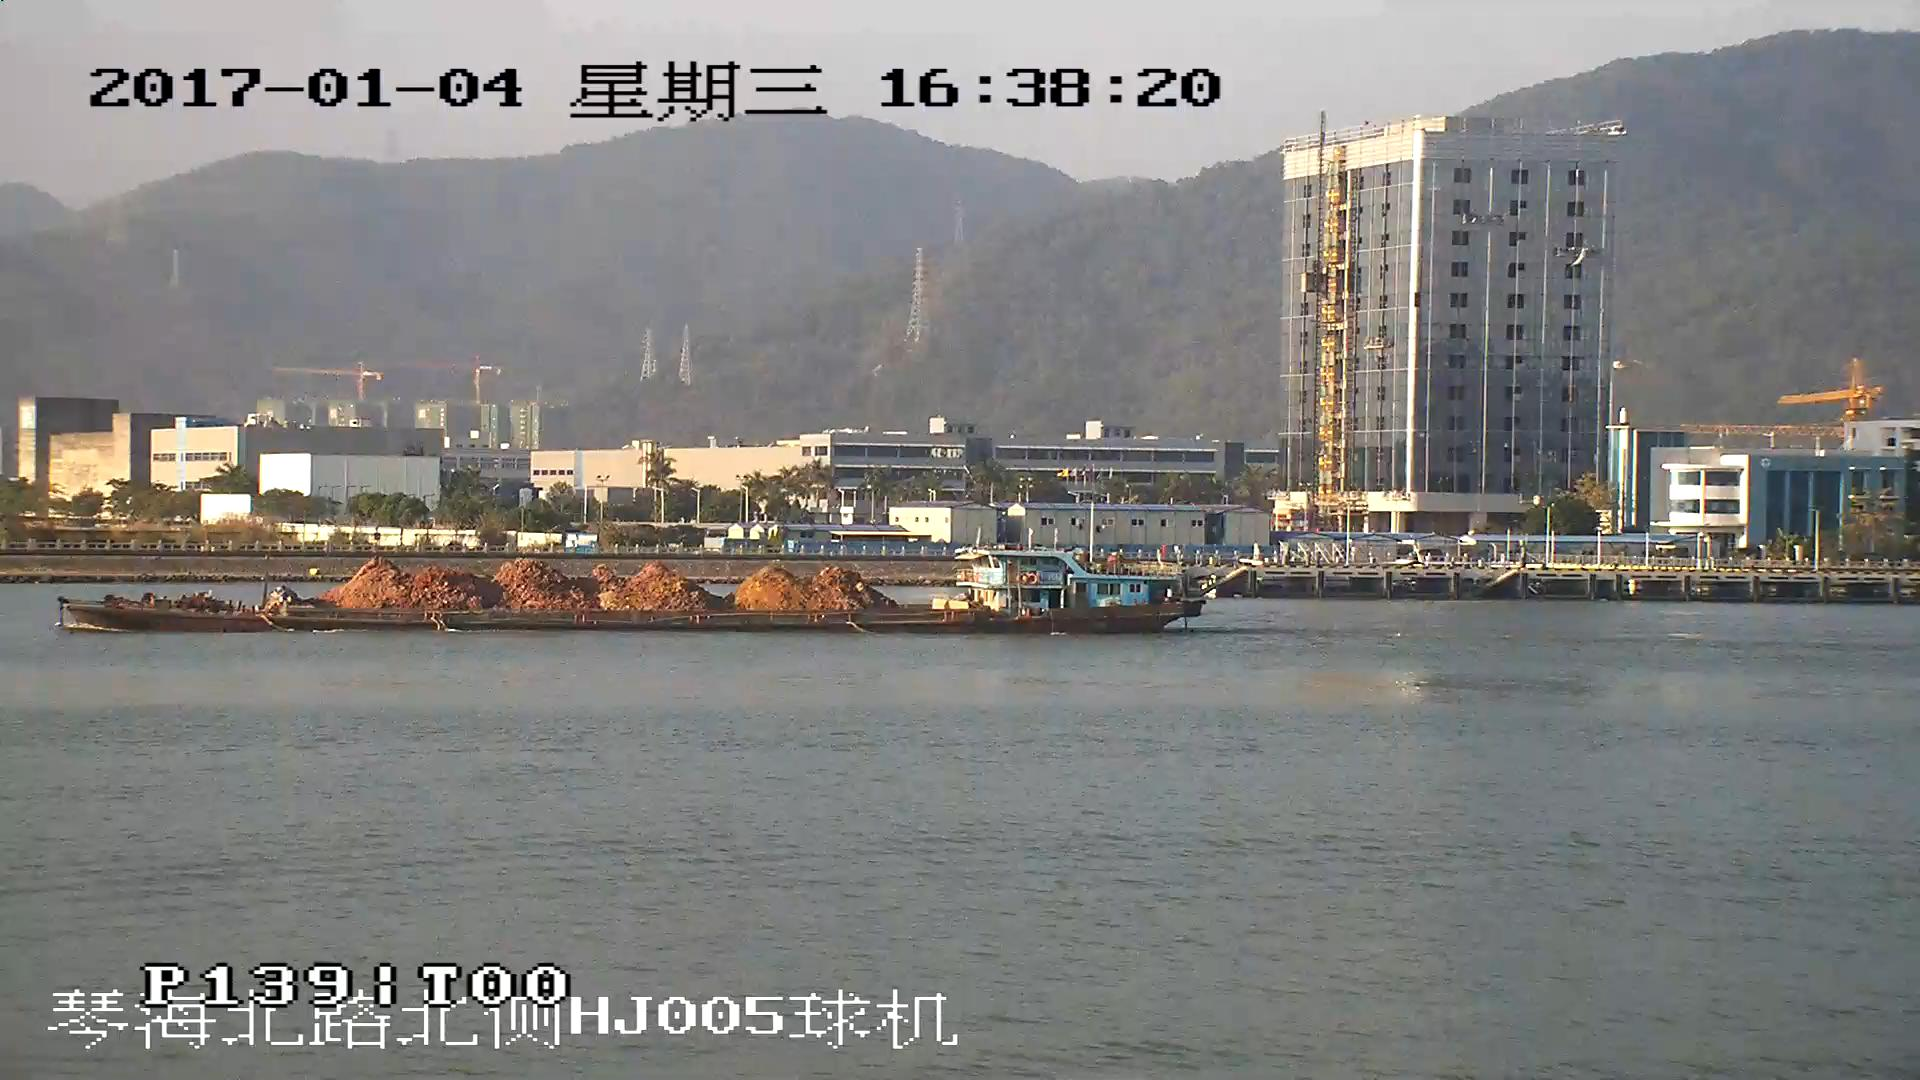ore carrier: (62, 548, 1205, 631)
